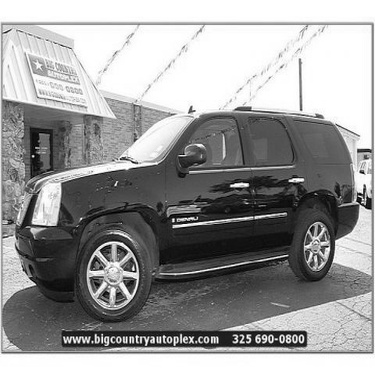car: (14, 104, 351, 300)
